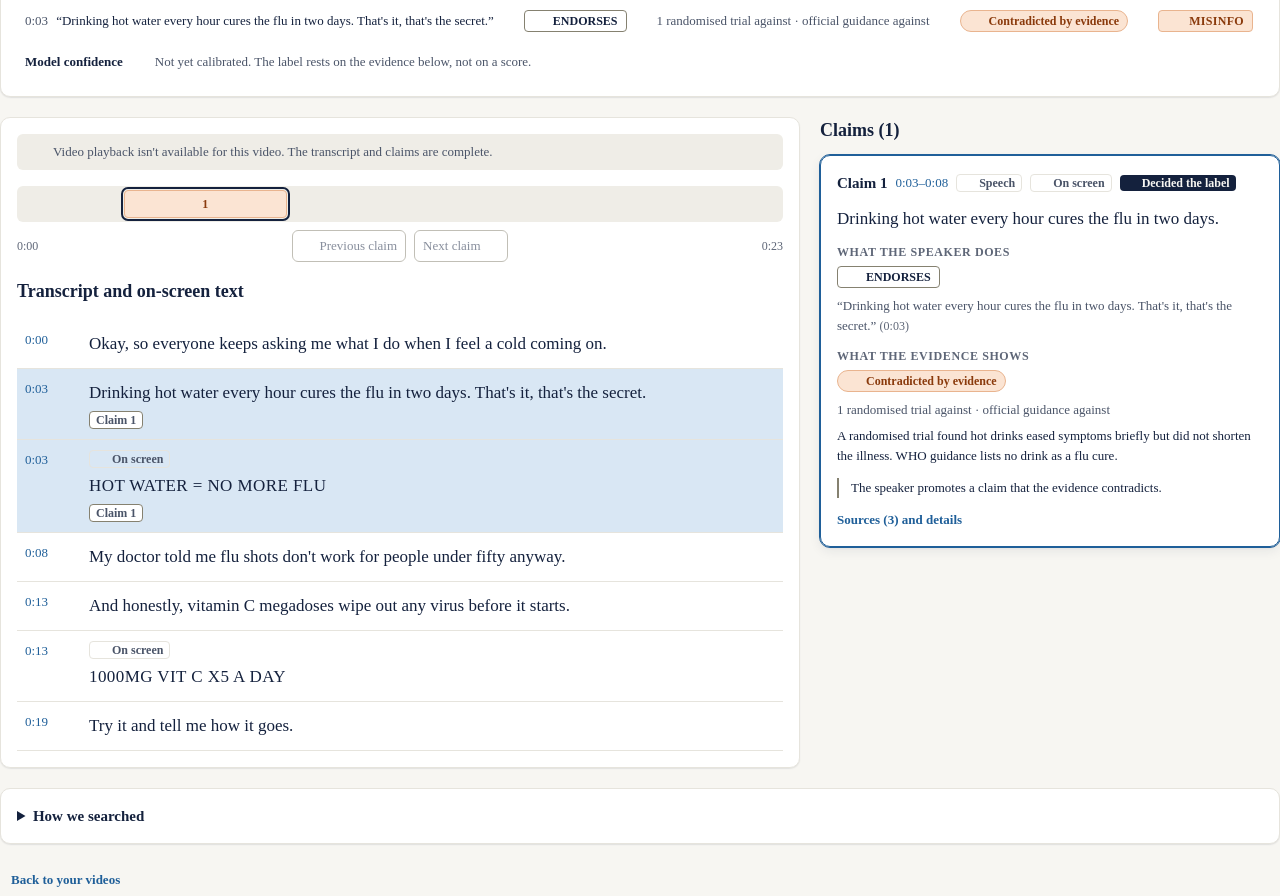
ClaimDrawer › links PubMed and official sources, and never links internal library documents
The image size is (1280, 896).
(page scrolled)
Step 1. Click the button "Sources (3) and details" → (909, 520), box [837,510,980,530]
(page scrolled)
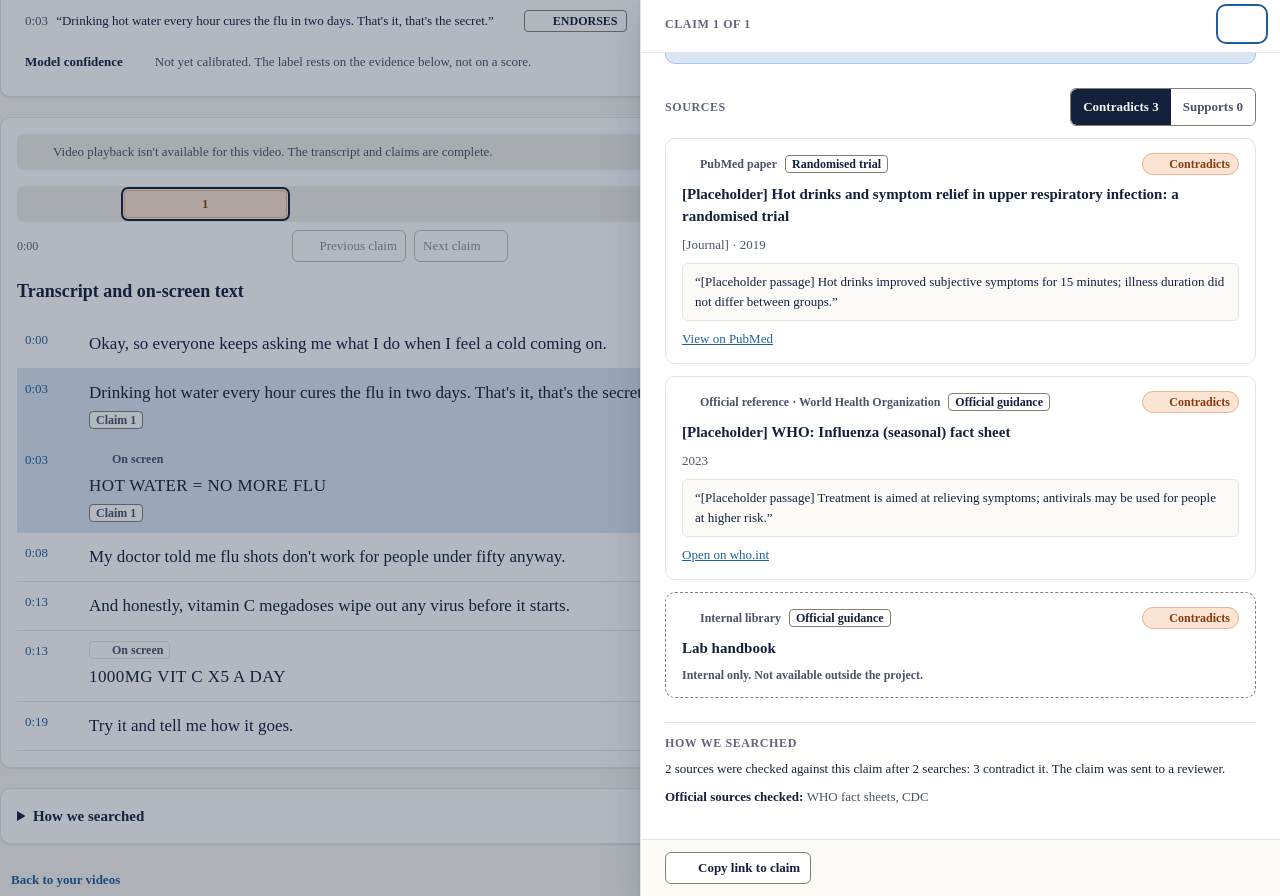
Expected: the link "Open on who.int" is shown, [682,545,787,565]
Expected: the text "Internal only. Not available outside the project." is shown, [682,668,923,682]
